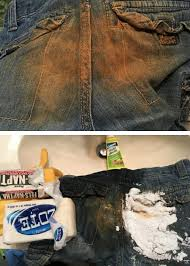earth: (81, 23, 143, 82), (40, 27, 78, 106)
